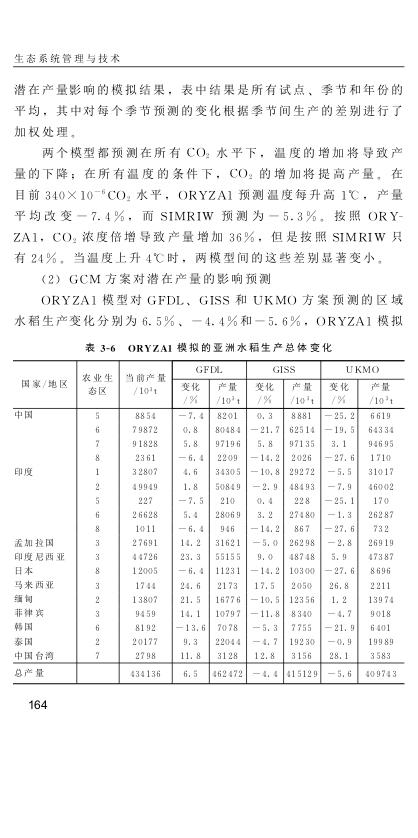table: (13, 360, 405, 684)
